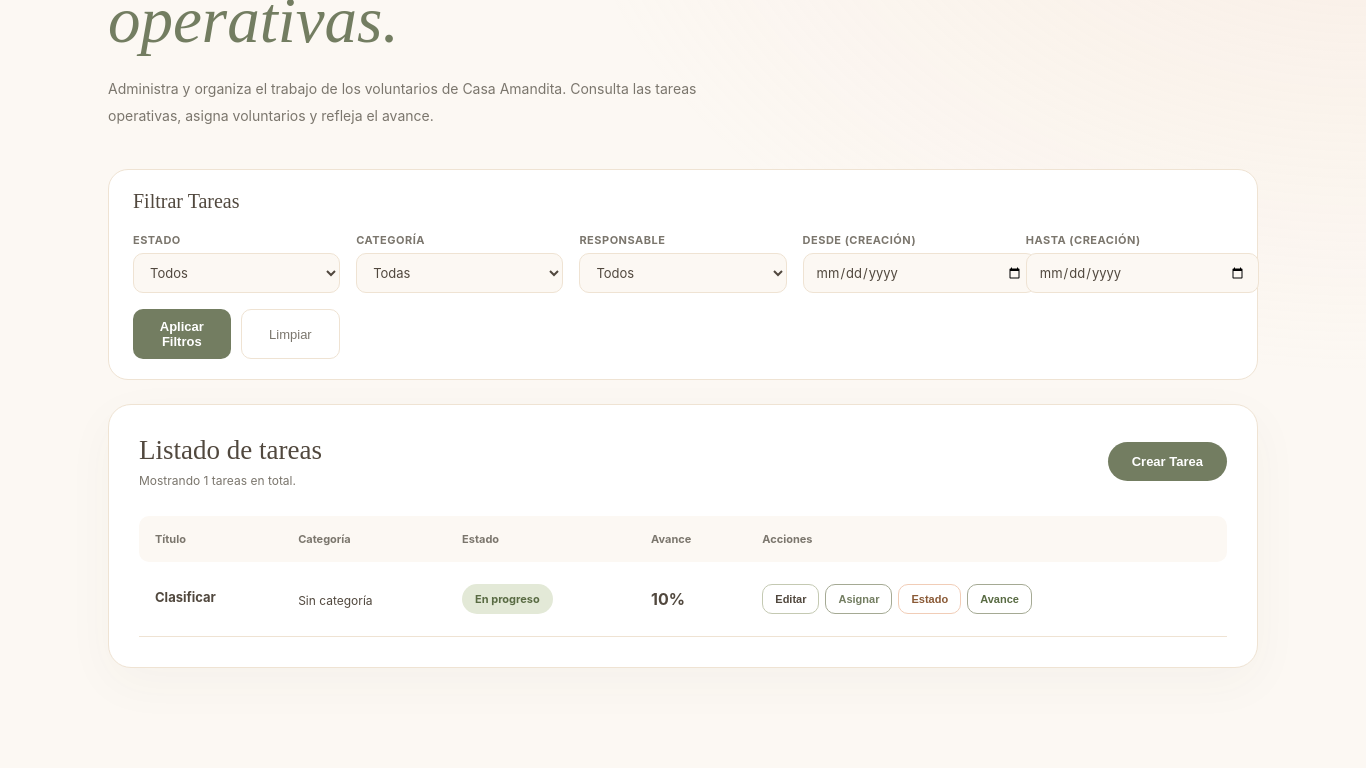
it: TareasView › el botón de avance está habilitado y abre el modal si la tarea está en progreso
(page scrolled)
Click the button with class "btn-avance": (999, 599) [967,584,1032,614]
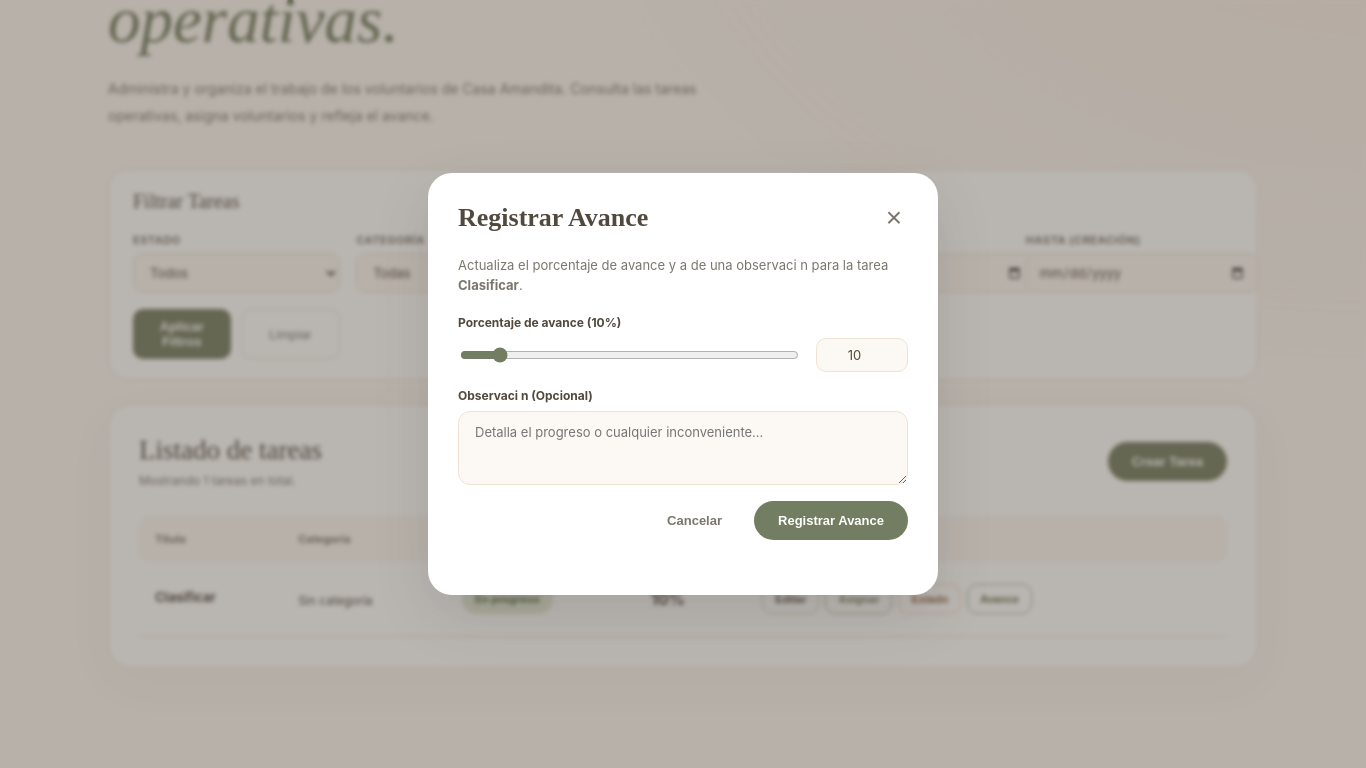
Now the element that starts with "Registrar Avance" is shown
